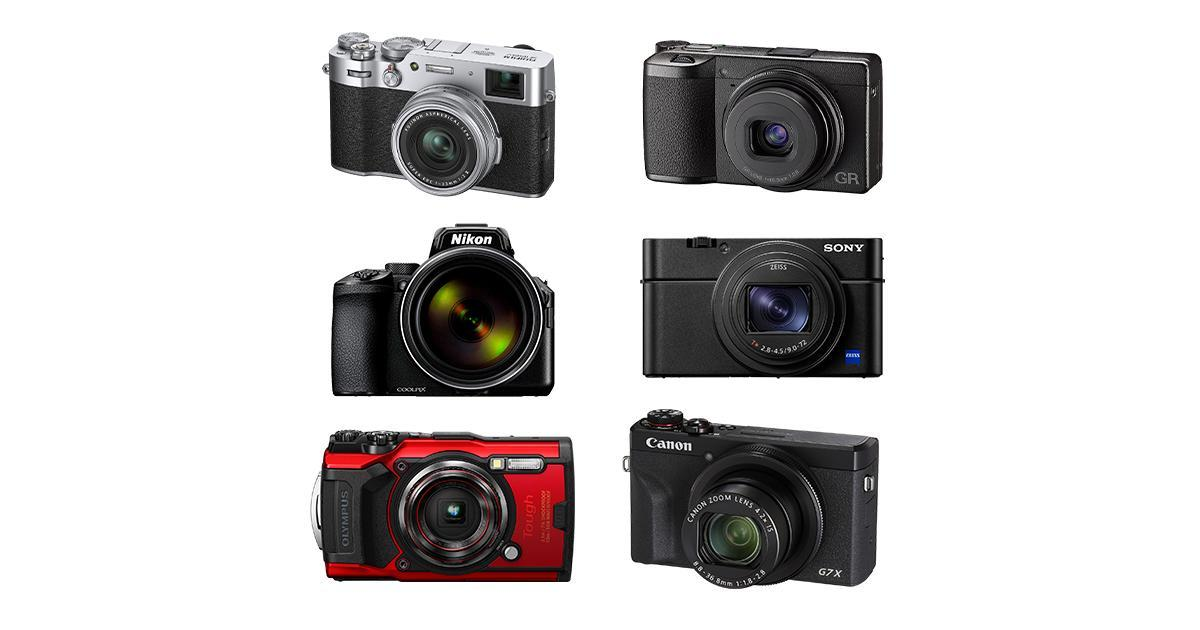degital-camera: (621, 406, 888, 600), (310, 421, 583, 585), (321, 216, 561, 401), (634, 31, 889, 203), (634, 229, 889, 385), (321, 34, 558, 200)
